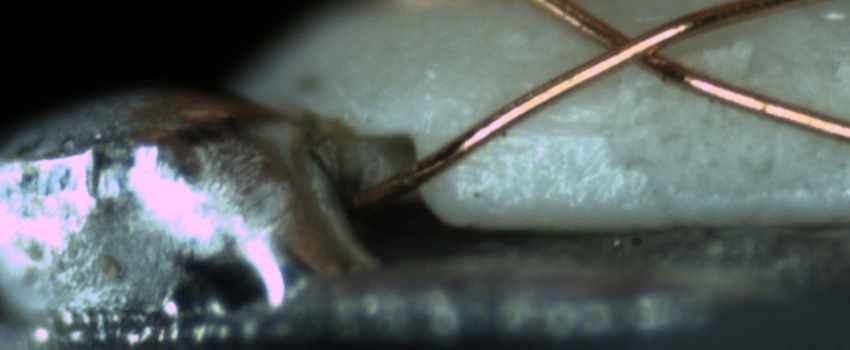CL: (578, 12, 691, 79)
DL: (472, 106, 610, 170)
